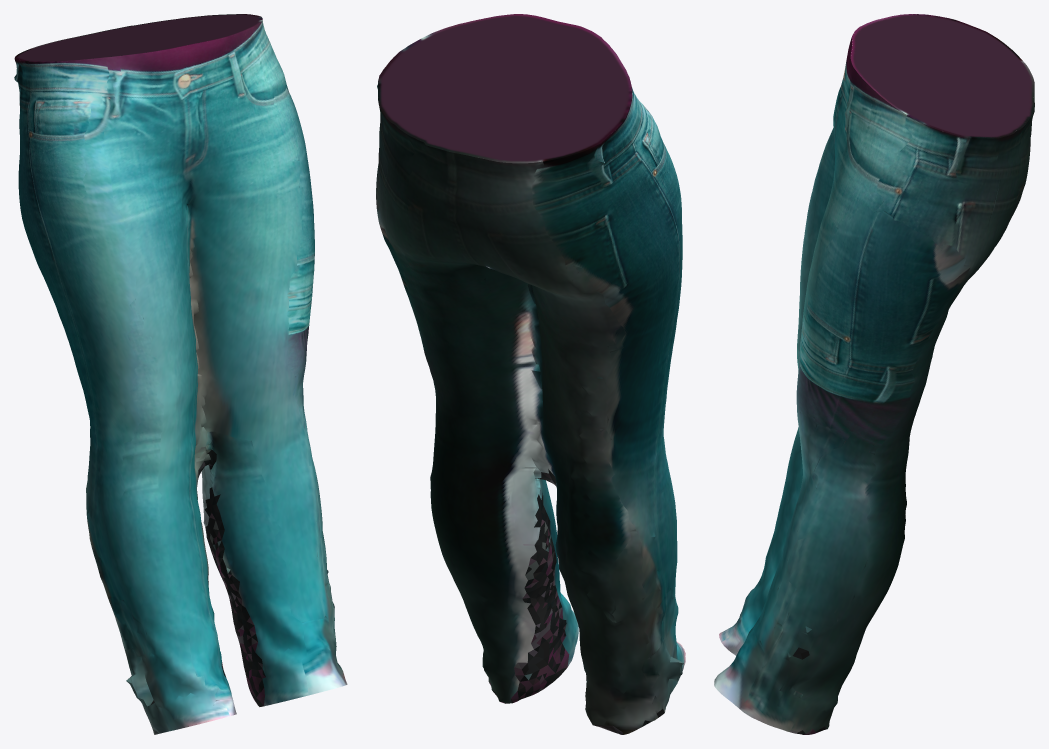
3 renders of one model, left to right at view 1: azimuth 30°, elevation 25°; view 2: azimuth 150°, elevation 25°; view 3: azimuth 270°, elevation 25°, orthographic. The views are drawn at different scales.
Parts seen in each view (by area): view 1: Object_5, Object_3; view 2: Object_5, Object_3; view 3: Object_5, Object_3.
Boxes of the visible parts, x1=… form: Object_5: x1=14, y1=20, x2=347, y2=734; Object_3: x1=15, y1=14, x2=262, y2=61; Object_5: x1=376, y1=84, x2=685, y2=734; Object_3: x1=378, y1=14, x2=631, y2=163; Object_5: x1=714, y1=37, x2=1034, y2=734; Object_3: x1=850, y1=14, x2=1034, y2=138.
Size of the model in its own units: 393 by 944 by 418.
3 materials, 3 textured.
